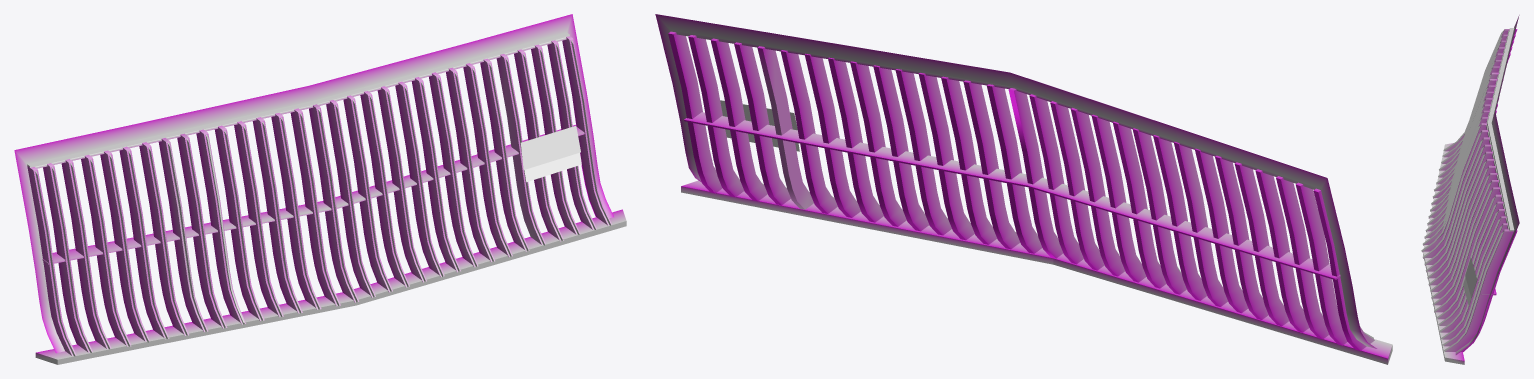
File: Car_Buick_GrandNational_1987_Grille_SetA.fbx
The picture shows the model from 3 angles, left to right: view 1: azimuth 30°, elevation 25°; view 2: azimuth 150°, elevation 25°; view 3: azimuth 270°, elevation 25°; orthographic projection. The views are drawn at different scales.
Parts seen in each view (by area): view 1: Grille 5; view 2: Grille 5; view 3: Grille 5.
Part boxes in pixels (left/top/right/bottom): Grille 5: left=14, top=14, right=626, bottom=364; Grille 5: left=655, top=14, right=1392, bottom=364; Grille 5: left=1421, top=15, right=1519, bottom=364.
Size of the model in its own units: 0.8251 by 0.2496 by 0.1561.
